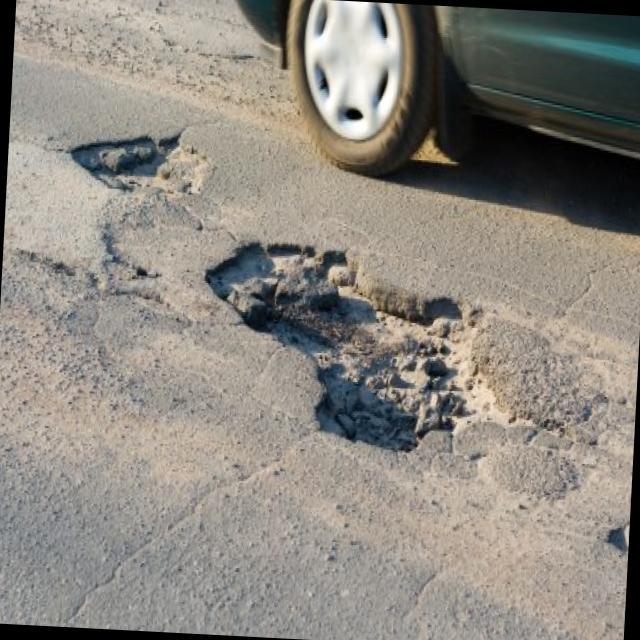Pothole: (202, 222, 536, 468), (64, 126, 212, 210)
